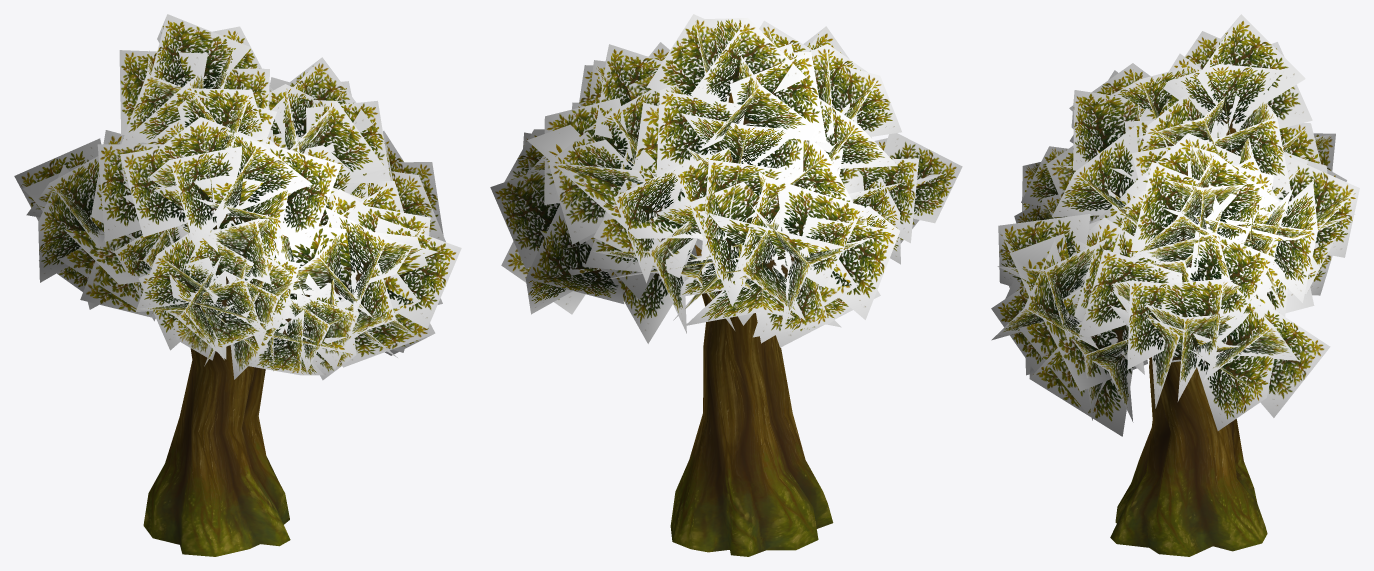
Rendered from tree_1.fbx.
The picture shows the model from 3 angles, left to right: view 1: azimuth 30°, elevation 25°; view 2: azimuth 150°, elevation 25°; view 3: azimuth 270°, elevation 25°; orthographic projection. The views are drawn at different scales.
Parts seen in each view (by area): view 1: tree_1_canopy, tree_1_trunk; view 2: tree_1_canopy, tree_1_trunk; view 3: tree_1_canopy, tree_1_trunk.
Part boxes in pixels (<box>): tree_1_canopy: <box>14,14,461,380</box>; tree_1_trunk: <box>143,345,290,556</box>; tree_1_canopy: <box>490,14,962,347</box>; tree_1_trunk: <box>670,93,833,556</box>; tree_1_canopy: <box>991,14,1359,436</box>; tree_1_trunk: <box>1110,125,1267,556</box>.
Bounding box in the file's own units: 10.55 × 13.19 × 8.76.
